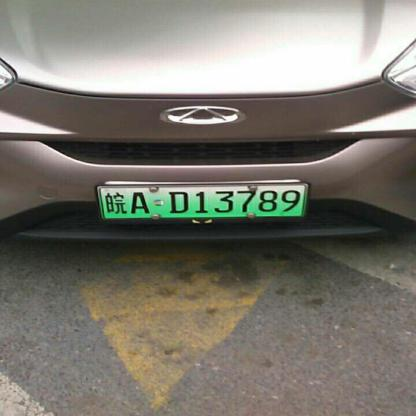lp: (98, 184, 306, 219)
